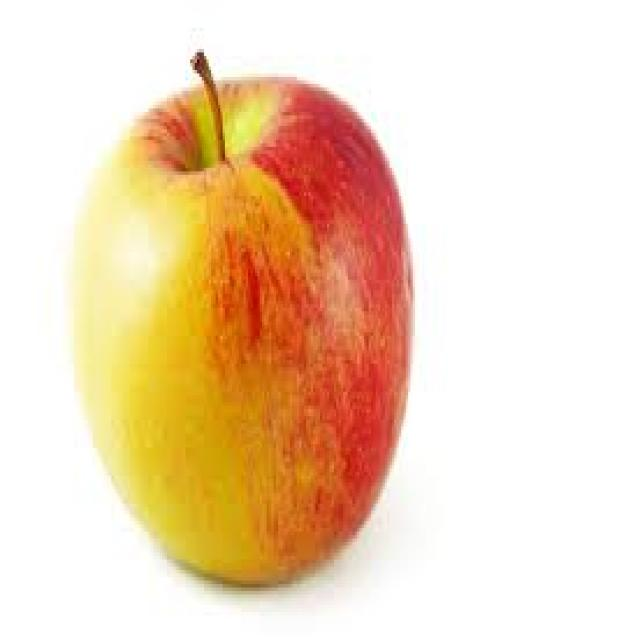apple: (61, 62, 430, 596)
